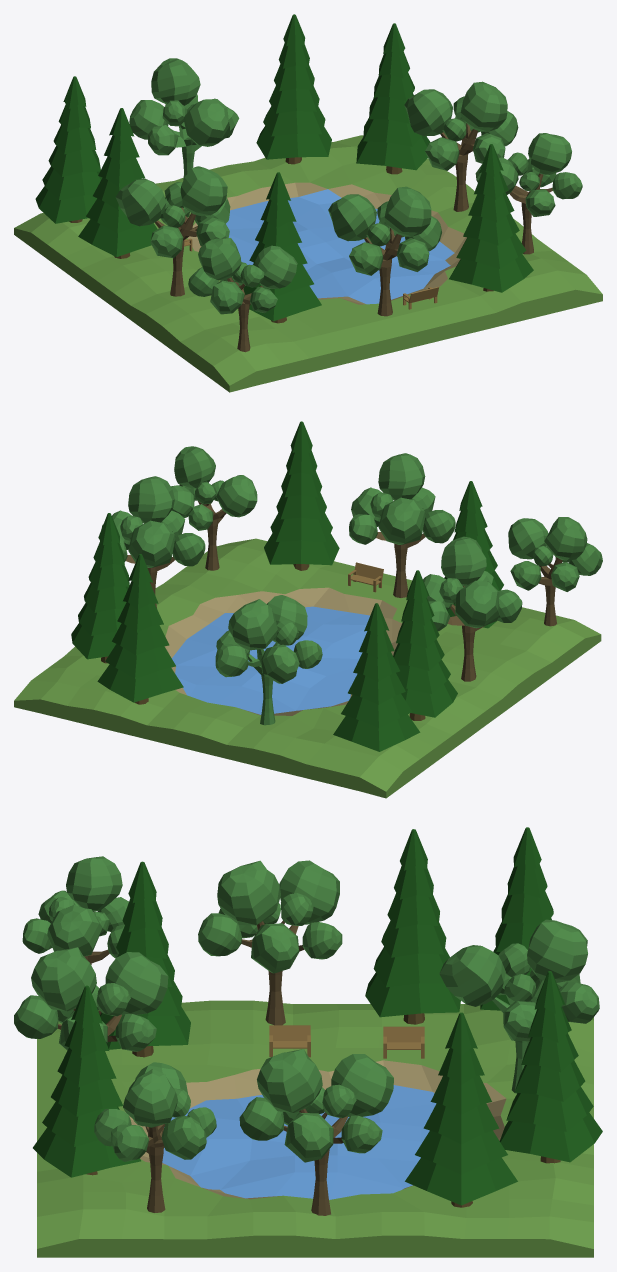
The model's file is Park_2.fbx.
The picture shows the model from 3 angles, top to bottom: view 1: azimuth 30°, elevation 25°; view 2: azimuth 150°, elevation 25°; view 3: azimuth 270°, elevation 25°; orthographic projection. The views are drawn at different scales.
Parts seen in each view (by area): view 1: Plane, Cylinder.001, Cylinder.005, Cube; view 2: Plane, Cylinder.001, Cylinder.005, Cube; view 3: Plane, Cylinder.001, Cylinder.005, Cube.
Boxes of the visible parts, x1=… form: Plane: x1=14, y1=135, x2=602, y2=392; Cylinder.001: x1=115, y1=58, x2=582, y2=352; Cylinder.005: x1=35, y1=14, x2=533, y2=323; Cube: x1=184, y1=238, x2=438, y2=309; Plane: x1=14, y1=538, x2=601, y2=798; Cylinder.001: x1=101, y1=446, x2=602, y2=725; Cylinder.005: x1=71, y1=421, x2=503, y2=751; Cube: x1=348, y1=562, x2=383, y2=592; Plane: x1=37, y1=1000, x2=593, y2=1257; Cylinder.001: x1=14, y1=856, x2=599, y2=1215; Cylinder.005: x1=33, y1=827, x2=602, y2=1207; Cube: x1=269, y1=1025, x2=424, y2=1058.
Size of the model in its own units: 1396 by 560 by 1377.
